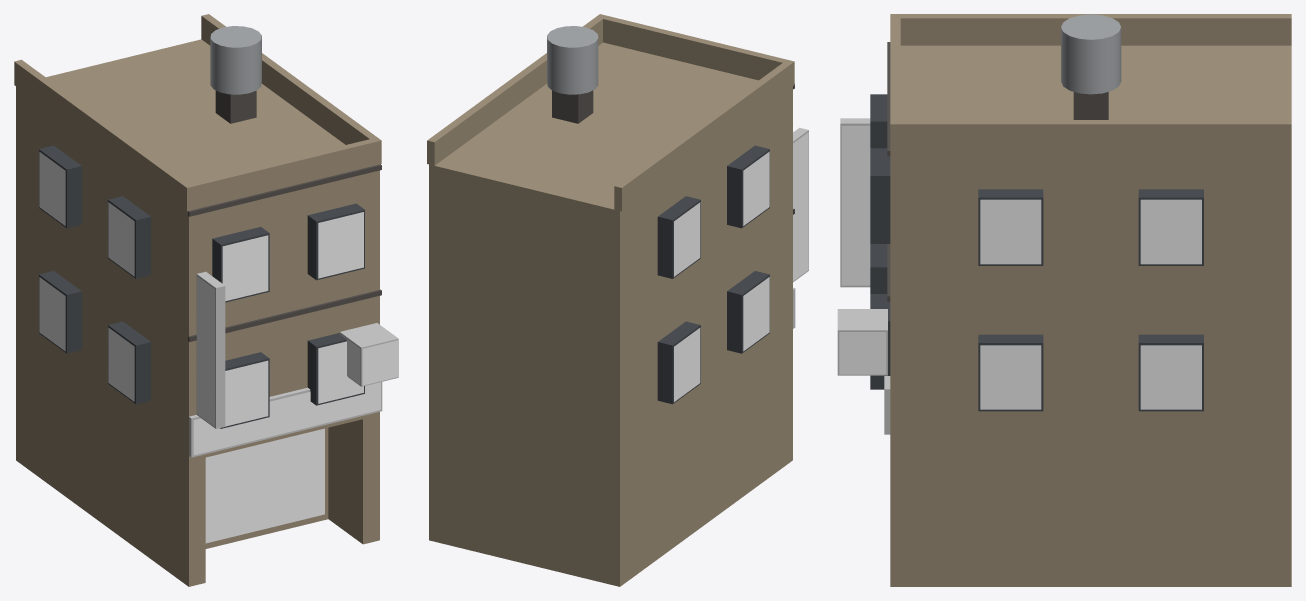
File: shophouse-1.glb
The picture shows the model from 3 angles, left to right: view 1: azimuth 30°, elevation 25°; view 2: azimuth 150°, elevation 25°; view 3: azimuth 270°, elevation 25°; orthographic projection. The views are drawn at different scales.
Visible parts, largest first — view 1: body, decal_window, decal_storefront, decal_banner, decal_vsign, decal_cube; view 2: body, decal_window, decal_vsign; view 3: body, decal_window, decal_vsign, decal_cube.
Boxes of the visible parts, x1=… form: body: x1=14, y1=14, x2=398, y2=586; decal_window: x1=39, y1=152, x2=363, y2=426; decal_storefront: x1=205, y1=428, x2=324, y2=543; decal_banner: x1=193, y1=382, x2=380, y2=455; decal_vsign: x1=197, y1=276, x2=214, y2=426; decal_cube: x1=340, y1=334, x2=397, y2=385; body: x1=427, y1=14, x2=808, y2=586; decal_window: x1=674, y1=151, x2=769, y2=401; decal_vsign: x1=793, y1=132, x2=808, y2=280; body: x1=837, y1=14, x2=1291, y2=586; decal_window: x1=980, y1=199, x2=1201, y2=409; decal_vsign: x1=841, y1=125, x2=870, y2=285; decal_cube: x1=839, y1=332, x2=886, y2=374.
Size of the model in its own units: 5.93 by 11.6 by 9.06.
